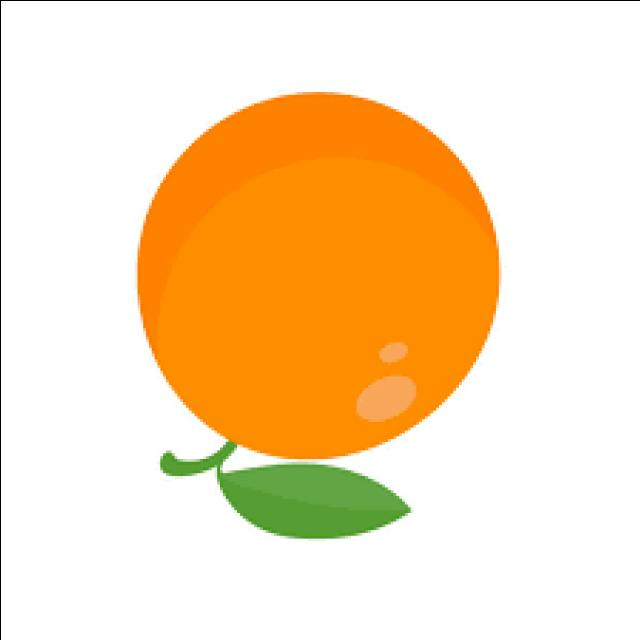orange: (128, 100, 498, 469)
